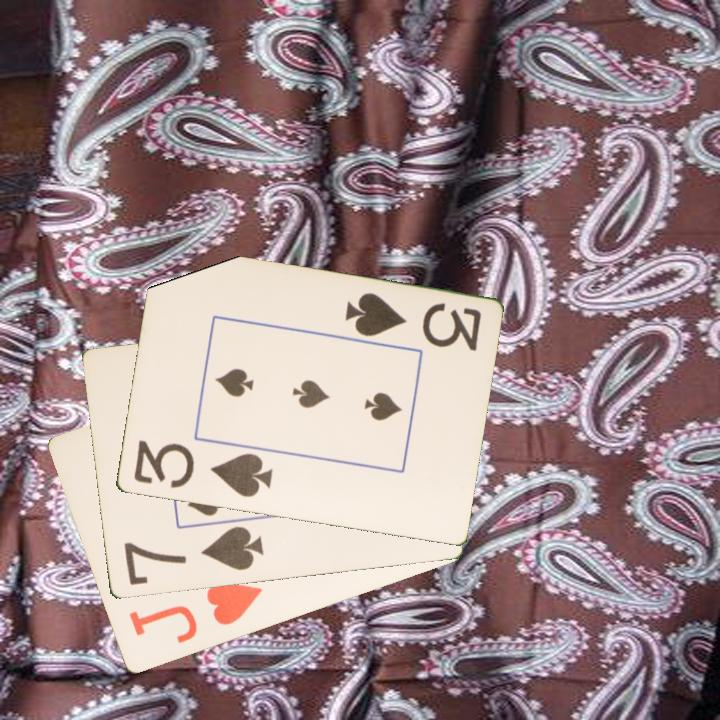3s: (129, 436, 275, 501), (341, 289, 484, 354)
7s: (120, 523, 267, 589)
Jh: (125, 579, 266, 647)
